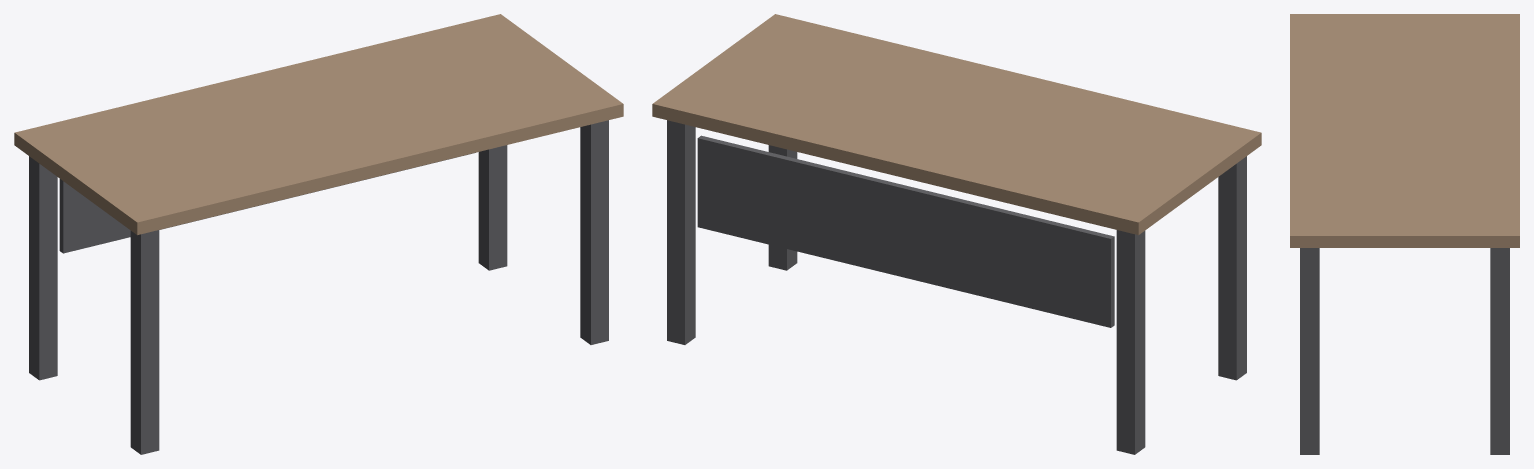
Rendered from escritorio-demo.glb.
3 renders of one model, left to right at view 1: azimuth 30°, elevation 25°; view 2: azimuth 150°, elevation 25°; view 3: azimuth 270°, elevation 25°, orthographic. The views are drawn at different scales.
Parts seen in each view (by area): view 1: cubierta, pata-3, pata-4, pata-1, pata-2, faldon; view 2: cubierta, faldon, pata-1, pata-2, pata-3, pata-4; view 3: cubierta, pata-2, pata-4.
Boxes of the visible parts, bbox=[...] form: cubierta: bbox=[14, 14, 623, 235]; pata-3: bbox=[130, 230, 159, 454]; pata-4: bbox=[580, 120, 608, 344]; pata-1: bbox=[29, 156, 57, 380]; pata-2: bbox=[478, 145, 507, 270]; faldon: bbox=[59, 152, 475, 253]; cubierta: bbox=[652, 14, 1261, 235]; faldon: bbox=[697, 135, 1114, 327]; pata-1: bbox=[1116, 230, 1145, 454]; pata-2: bbox=[667, 120, 695, 344]; pata-3: bbox=[1218, 156, 1246, 380]; pata-4: bbox=[768, 145, 797, 270]; cubierta: bbox=[1290, 14, 1519, 247]; pata-2: bbox=[1490, 248, 1509, 454]; pata-4: bbox=[1300, 248, 1319, 454].
Size of the model in its own units: 1.6 by 0.75 by 0.7.
